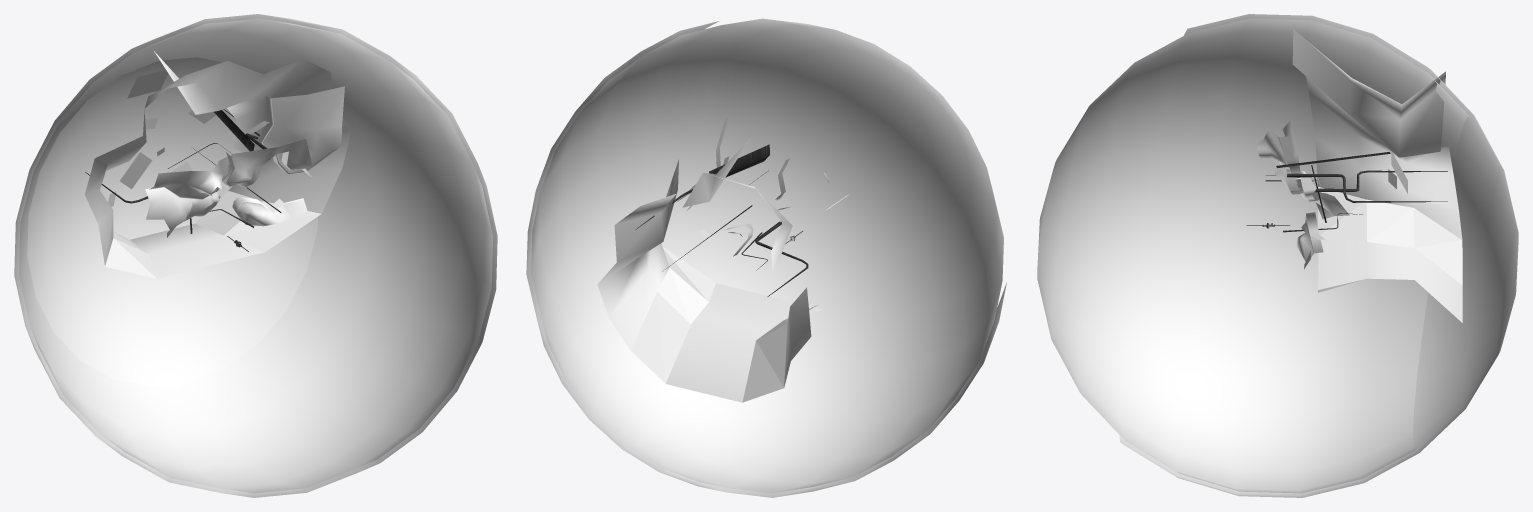
File: variant_default.glb
The picture shows the model from 3 angles, left to right: view 1: azimuth 30°, elevation 25°; view 2: azimuth 150°, elevation 25°; view 3: azimuth 270°, elevation 25°; orthographic projection.
Visible parts, largest first — view 1: rsrc.world.skybox.clockwork_tunnels.tier1.parts.mesh_bg_reco (×2), rsrc.world.skybox.clockwork_tunnels.tier1.parts.mesh_mainsky (×5); view 2: rsrc.world.skybox.clockwork_tunnels.tier1.parts.mesh_bg_reco (×2), rsrc.world.skybox.clockwork_tunnels.tier1.parts.mesh_mainsky (×3); view 3: rsrc.world.skybox.clockwork_tunnels.tier1.parts.mesh_bg_reco (×2), rsrc.world.skybox.clockwork_tunnels.tier1.parts.mesh_mainsky (×4).
Boxes of the visible parts, box(x1,y1,x2,y2) form: rsrc.world.skybox.clockwork_tunnels.tier1.parts.mesh_bg_reco (×2): box(14, 14, 497, 497); rsrc.world.skybox.clockwork_tunnels.tier1.parts.mesh_mainsky (×5): box(85, 51, 351, 278); rsrc.world.skybox.clockwork_tunnels.tier1.parts.mesh_bg_reco (×2): box(526, 18, 1006, 497); rsrc.world.skybox.clockwork_tunnels.tier1.parts.mesh_mainsky (×3): box(597, 118, 849, 402); rsrc.world.skybox.clockwork_tunnels.tier1.parts.mesh_bg_reco (×2): box(1037, 14, 1518, 497); rsrc.world.skybox.clockwork_tunnels.tier1.parts.mesh_mainsky (×4): box(1256, 29, 1462, 322).
Bounding box in the file's own units: 105 × 102 × 101.
8 materials, 3 textured.
